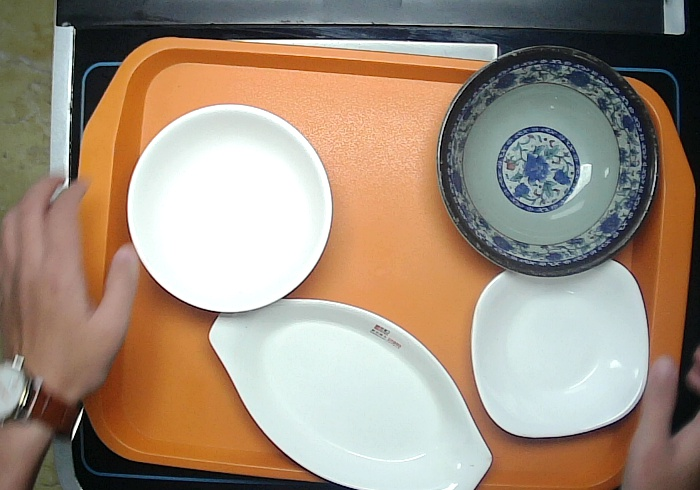ZNLD-Qing_Hua_Wan: (435, 37, 660, 279)
ZNLD-Si_Fang_Wan: (473, 254, 656, 440)
ZNLD-Tang_Wan: (124, 103, 334, 320)
ZNLD-Yu_Pan: (200, 283, 485, 490)
